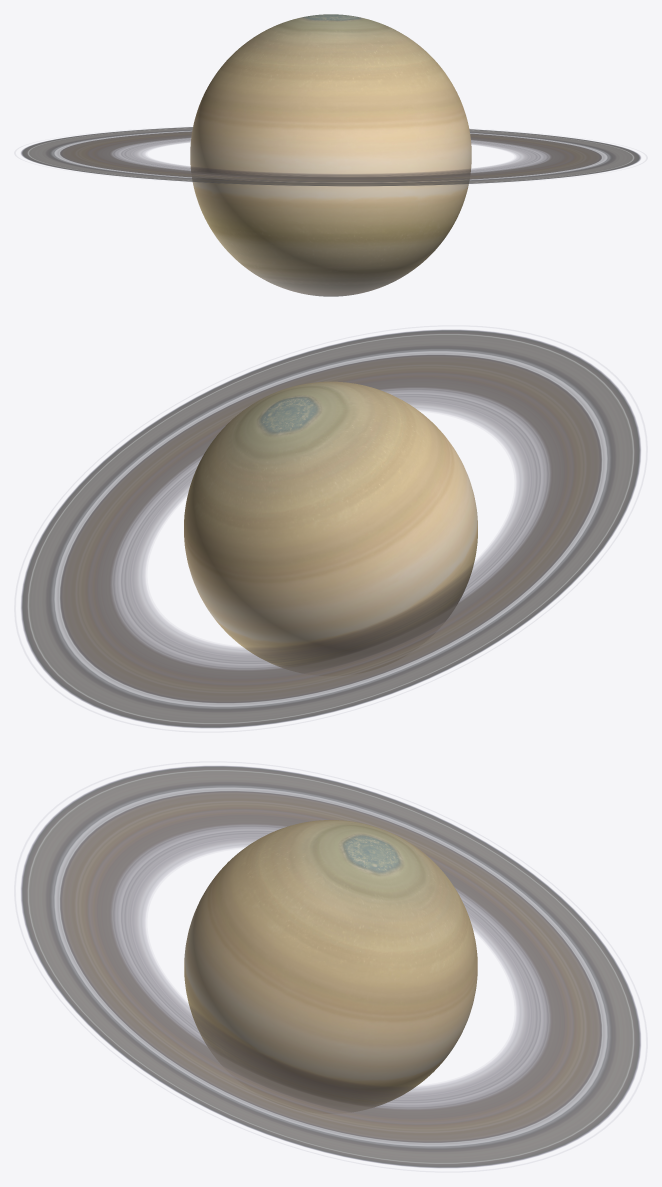
File: saturn.glb
The picture shows the model from 3 angles, top to bottom: view 1: azimuth 30°, elevation 25°; view 2: azimuth 150°, elevation 25°; view 3: azimuth 270°, elevation 25°; orthographic projection. The views are drawn at different scales.
Parts seen in each view (by area): view 1: Saturn_Sphere.006, Ring_Circle.001; view 2: Ring_Circle.001, Saturn_Sphere.006; view 3: Ring_Circle.001, Saturn_Sphere.006.
Part boxes in pixels (<box>): Saturn_Sphere.006: <box>190,14,471,296</box>; Ring_Circle.001: <box>21,127,640,186</box>; Ring_Circle.001: <box>21,330,640,727</box>; Saturn_Sphere.006: <box>184,381,477,672</box>; Ring_Circle.001: <box>21,766,640,1167</box>; Saturn_Sphere.006: <box>184,820,477,1111</box>.
Size of the model in its own units: 4.21 by 1.9 by 4.1.
Materials: 2 (2 with a texture image).
